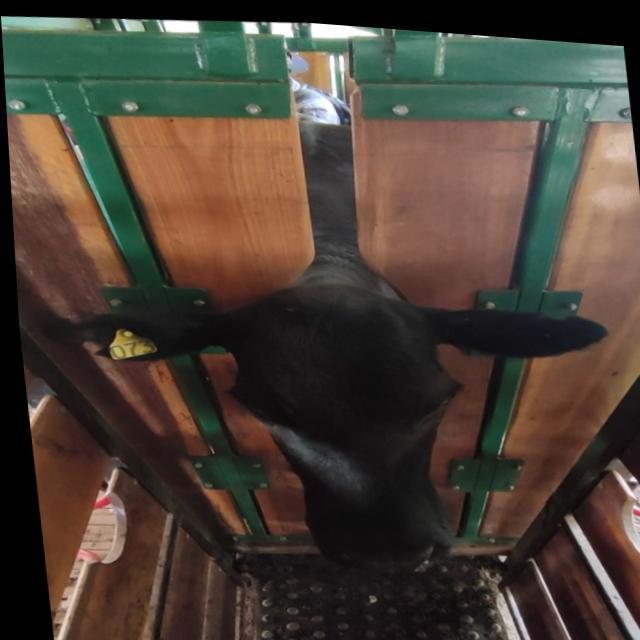cowFace: (214, 267, 474, 585)
